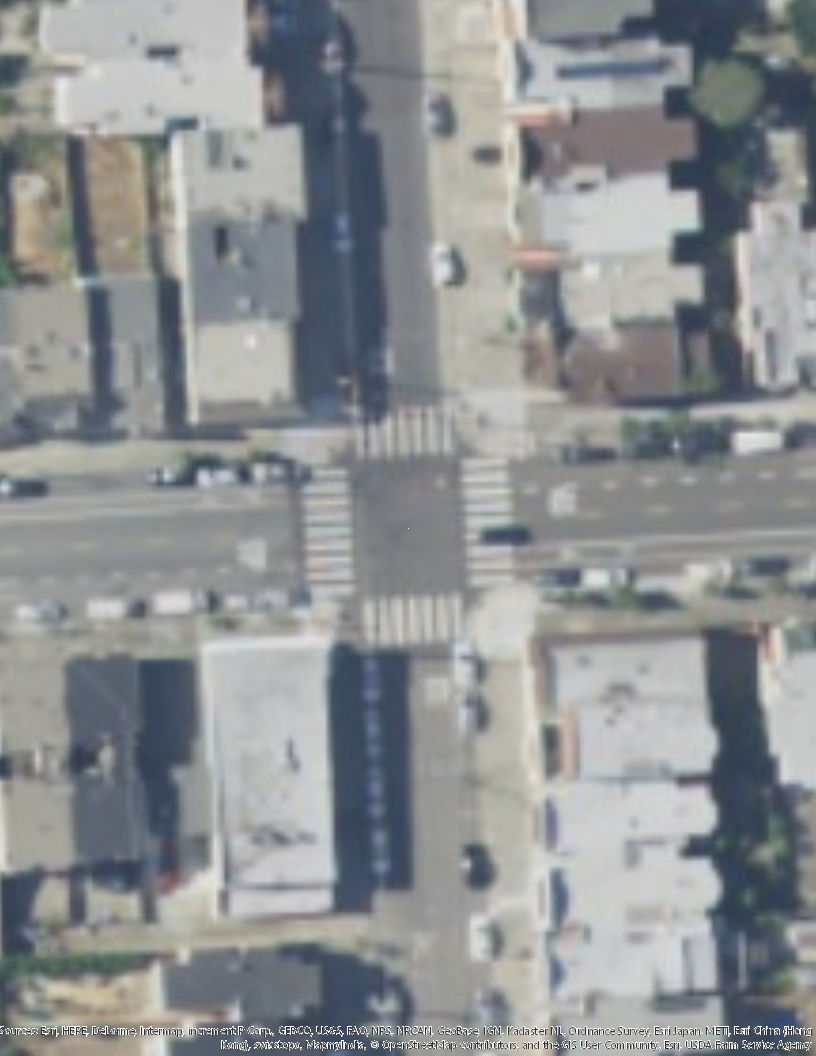zebracross: (299, 467, 356, 598), (462, 461, 516, 591), (356, 591, 466, 648), (357, 405, 457, 461)
